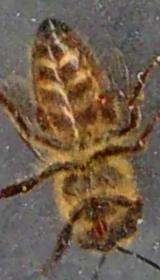varroa_mite: (92, 93, 112, 114)
